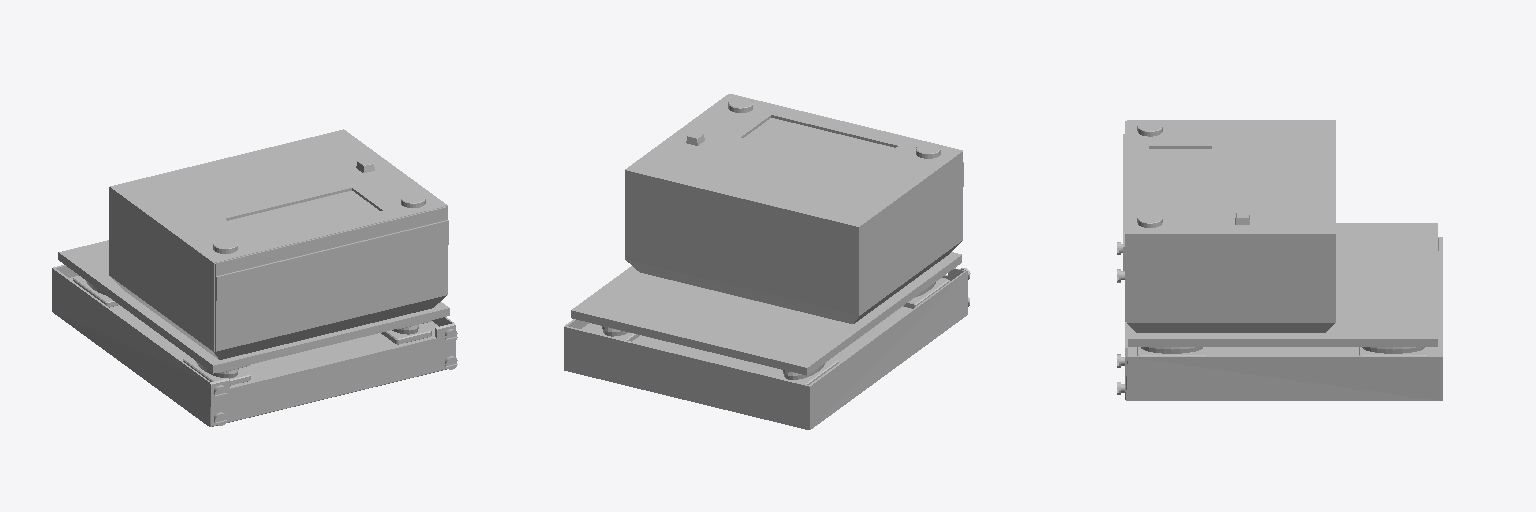
The model's file is TeletypePrinter.obj.
3 views of the same model, side by side, from view 1: azimuth 30°, elevation 25°; view 2: azimuth 150°, elevation 25°; view 3: azimuth 270°, elevation 25° (orthographic).
Visible parts, largest first — view 1: TeletypePrinter.obj; view 2: TeletypePrinter.obj; view 3: TeletypePrinter.obj.
Boxes of the visible parts, x1,y1,x2,y2 form: TeletypePrinter.obj: [52, 129, 457, 426]; TeletypePrinter.obj: [564, 94, 970, 429]; TeletypePrinter.obj: [1117, 120, 1442, 400].
Size of the model in its own units: 6.82 by 4.5 by 7.79.